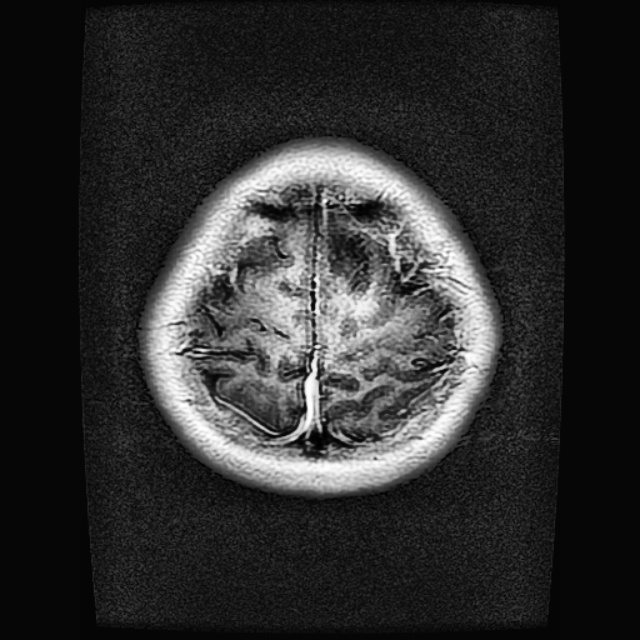Pituitary: (322, 212, 420, 300)
